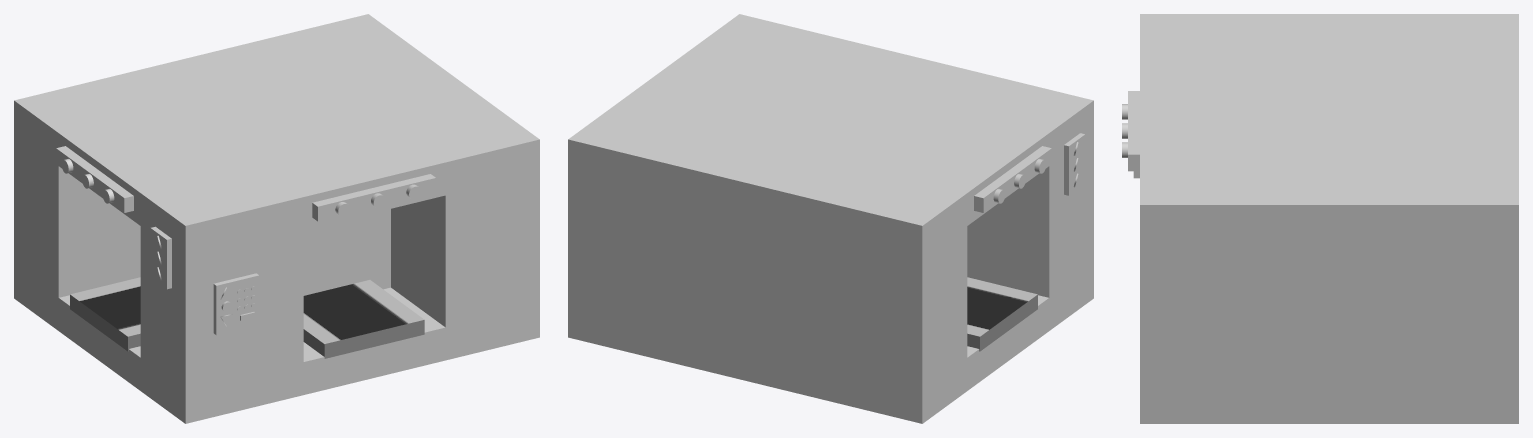
File: WorkMachine.FBX
3 renders of one model, left to right at view 1: azimuth 30°, elevation 25°; view 2: azimuth 150°, elevation 25°; view 3: azimuth 270°, elevation 25°, orthographic. The views are drawn at different scales.
Visible parts, largest first — view 1: Box017, Box020, Box019, Box022, Box023, Box018, Box024; view 2: Box017, Box019, Box018, Box024; view 3: Box017, Box022.
Part boxes in pixels (bbox=[...]): Box017: bbox=[14, 14, 539, 423]; Box020: bbox=[303, 280, 424, 358]; Box019: bbox=[70, 277, 140, 351]; Box022: bbox=[312, 174, 435, 221]; Box023: bbox=[213, 273, 259, 335]; Box018: bbox=[56, 146, 133, 212]; Box024: bbox=[150, 226, 171, 289]; Box017: bbox=[568, 14, 1093, 423]; Box019: bbox=[967, 277, 1037, 351]; Box018: bbox=[974, 146, 1051, 212]; Box024: bbox=[1064, 133, 1085, 195]; Box017: bbox=[1140, 14, 1518, 423]; Box022: bbox=[1128, 91, 1139, 171].
Size of the model in its own units: 77.9 by 40 by 65.75.
5 materials, 1 textured.
